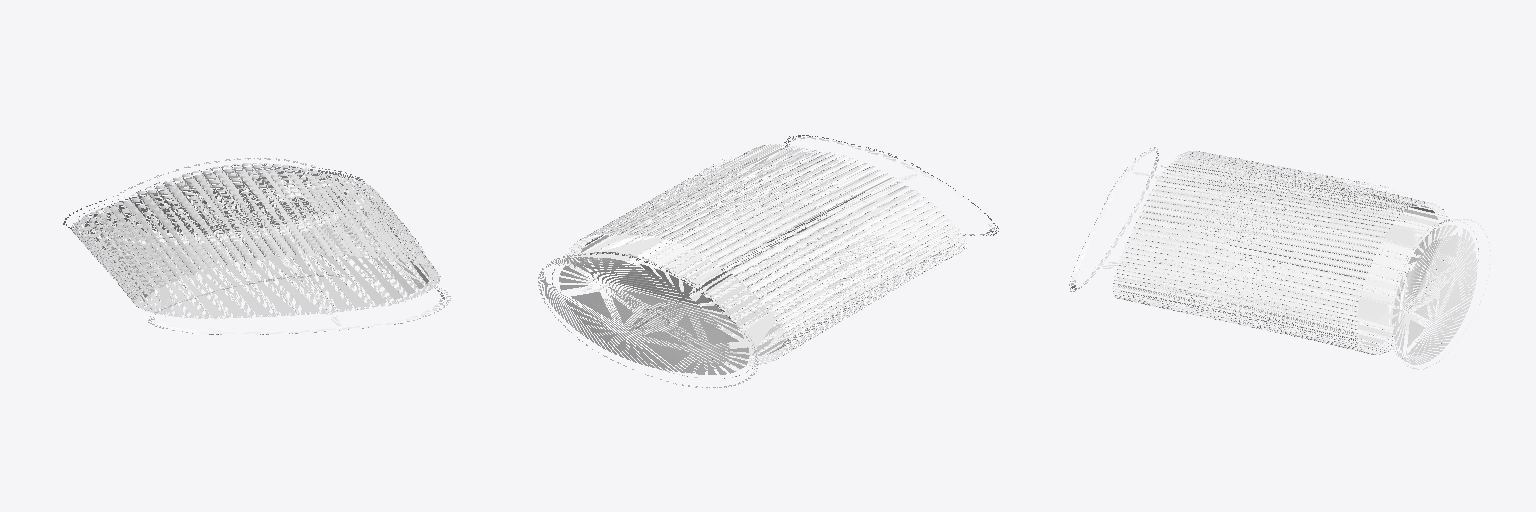
Rendered from bottle_cap_tall.002.obj.
3 views of the same model, side by side, from view 1: azimuth 30°, elevation 25°; view 2: azimuth 150°, elevation 25°; view 3: azimuth 270°, elevation 25° (orthographic).
Visible parts, largest first — view 1: bottle_cap_tall.002; view 2: bottle_cap_tall.002; view 3: bottle_cap_tall.002.
Part boxes in pixels (left/top/right/bottom): bottle_cap_tall.002: left=63, top=158, right=450, bottom=334; bottle_cap_tall.002: left=538, top=135, right=998, bottom=387; bottle_cap_tall.002: left=1069, top=147, right=1490, bottom=369.
Size of the model in its own units: 0.0374 by 0.0122 by 0.0402.